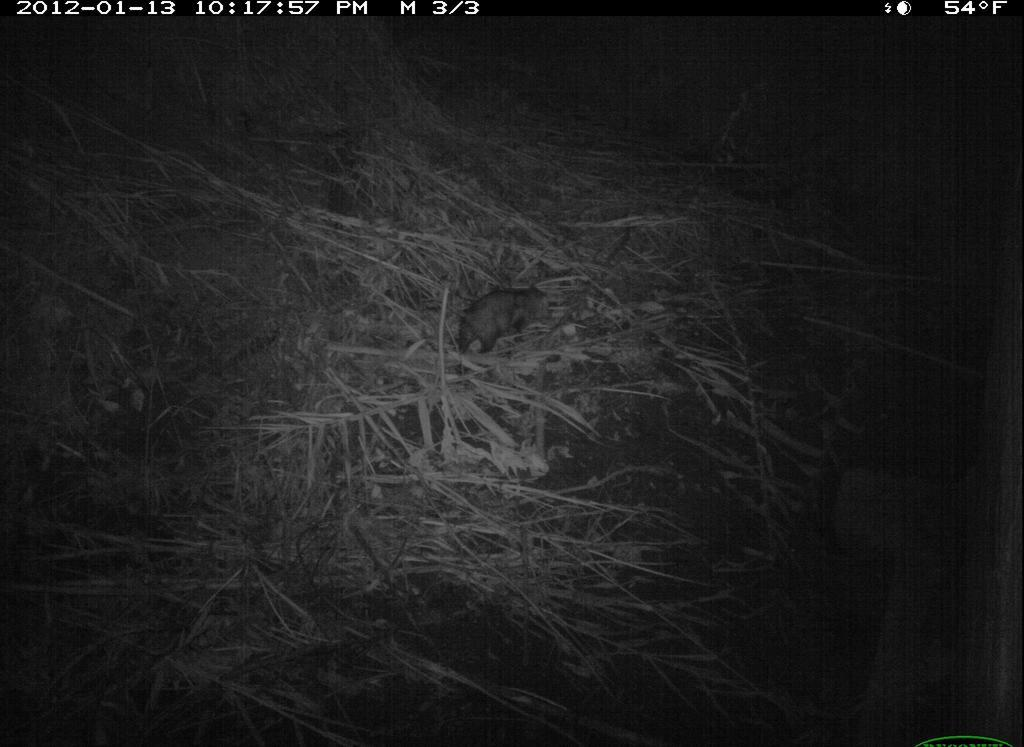opossum: (450, 282, 557, 378)
